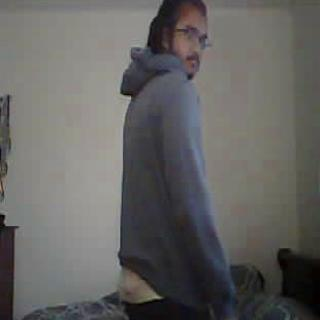Blue Hoodie: (117, 64, 224, 308)
